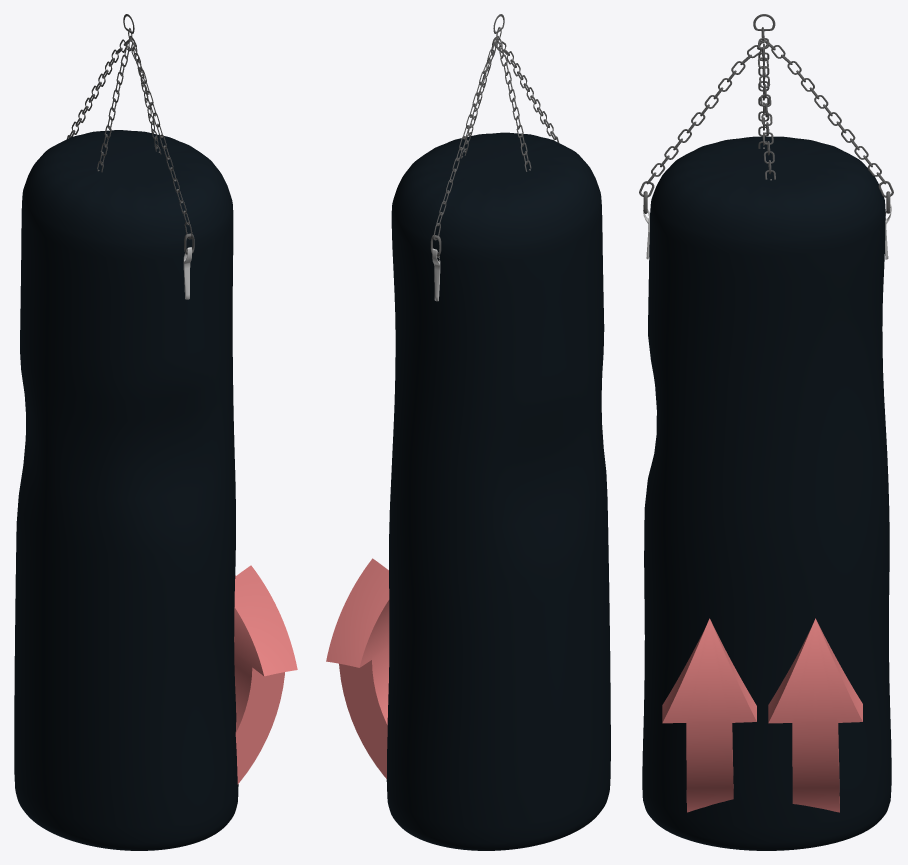
The model's file is BIG_PunchingBag_and_ArrowsBAS.fbx.
3 views of the same model, side by side, from view 1: azimuth 30°, elevation 25°; view 2: azimuth 150°, elevation 25°; view 3: azimuth 270°, elevation 25° (orthographic).
Visible parts, largest first — view 1: SAC, UP_BLOCK_Left, CHAINE; view 2: SAC, UP_BLOCK_RIght, CHAINE; view 3: SAC, UP_BLOCK_RIght, UP_BLOCK_Left, CHAINE.
Boxes of the visible parts, left/top/right/bottom form: SAC: left=14, top=130, right=238, bottom=850; UP_BLOCK_Left: left=234, top=565, right=297, bottom=784; CHAINE: left=67, top=14, right=194, bottom=254; SAC: left=386, top=132, right=610, bottom=850; UP_BLOCK_RIght: left=326, top=558, right=389, bottom=778; CHAINE: left=430, top=14, right=559, bottom=256; SAC: left=642, top=136, right=891, bottom=850; UP_BLOCK_RIght: left=768, top=618, right=862, bottom=812; UP_BLOCK_Left: left=662, top=618, right=756, bottom=812; CHAINE: left=639, top=14, right=893, bottom=213.
Size of the model in its own units: 535 by 1846 by 536.
